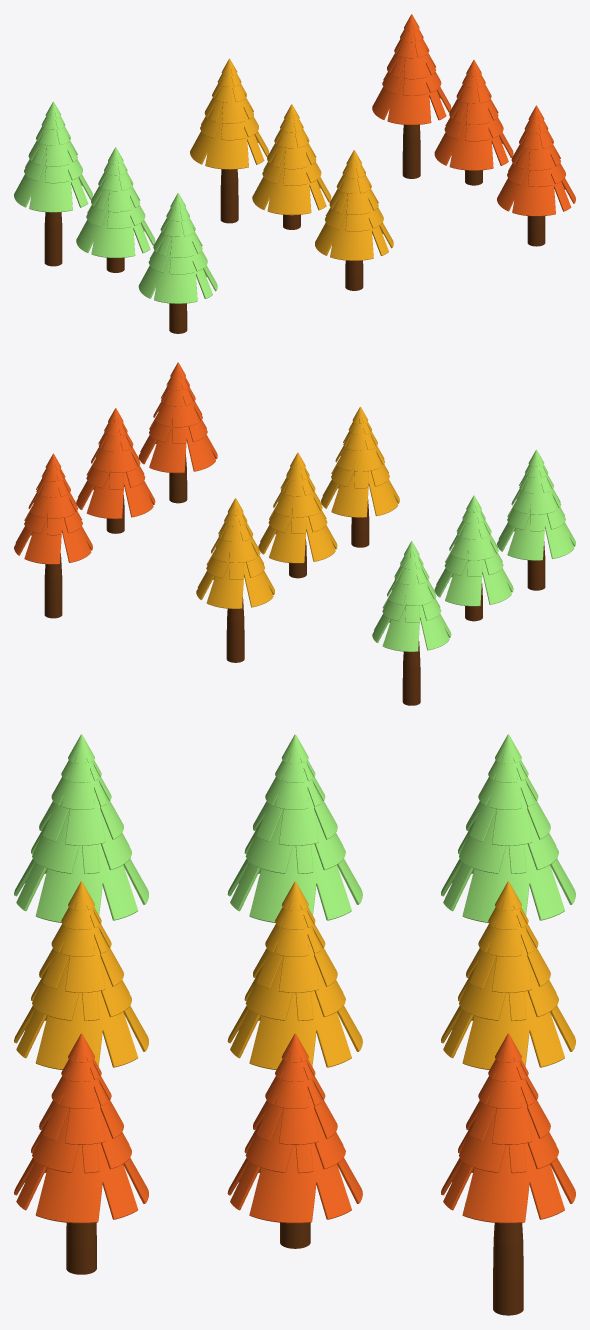
The model's file is PineFallTrees-Lowpoly-Cute-3types-6totalFIXED.fbx.
3 renders of one model, top to bottom at view 1: azimuth 30°, elevation 25°; view 2: azimuth 150°, elevation 25°; view 3: azimuth 270°, elevation 25°, orthographic. The views are drawn at different scales.
Parts seen in each view (by area): view 1: Cone.002, Cone.005, Cone.001, Cone.006, Cone.009, Cone.004, Cone.008, Cone.003, Cone.007; view 2: Cone.001, Cone.005, Cone.002, Cone.004, Cone.009, Cone.006, Cone.007, Cone.008, Cone.003; view 3: Cone.001, Cone.006, Cone.007, Cone.003, Cone.004, Cone.005, Cone.008, Cone.009, Cone.002.
Boxes of the visible parts, left/top/right/bottom form: Cone.002: left=14, top=101, right=92, bottom=266; Cone.005: left=190, top=58, right=268, bottom=223; Cone.001: left=372, top=14, right=451, bottom=178; Cone.006: left=497, top=105, right=575, bottom=246; Cone.009: left=138, top=193, right=217, bottom=333; Cone.004: left=315, top=150, right=393, bottom=290; Cone.008: left=76, top=147, right=155, bottom=272; Cone.003: left=252, top=104, right=331, bottom=229; Cone.007: left=434, top=60, right=513, bottom=185; Cone.001: left=14, top=453, right=92, bottom=618; Cone.005: left=196, top=498, right=274, bottom=662; Cone.002: left=372, top=541, right=451, bottom=705; Cone.004: left=321, top=406, right=399, bottom=547; Cone.009: left=497, top=449, right=575, bottom=590; Cone.006: left=138, top=362, right=217, bottom=503; Cone.007: left=76, top=408, right=155, bottom=533; Cone.008: left=434, top=495, right=513, bottom=621; Cone.003: left=258, top=452, right=337, bottom=578; Cone.001: left=441, top=1033, right=575, bottom=1315; Cone.006: left=14, top=1033, right=148, bottom=1274; Cone.007: left=227, top=1033, right=362, bottom=1248; Cone.003: left=227, top=881, right=362, bottom=1069; Cone.004: left=14, top=881, right=148, bottom=1069; Cone.005: left=441, top=881, right=575, bottom=1069; Cone.008: left=227, top=734, right=362, bottom=922; Cone.009: left=14, top=734, right=148, bottom=922; Cone.002: left=441, top=734, right=575, bottom=922.
Size of the model in its own units: 1621 by 584 by 1081.
